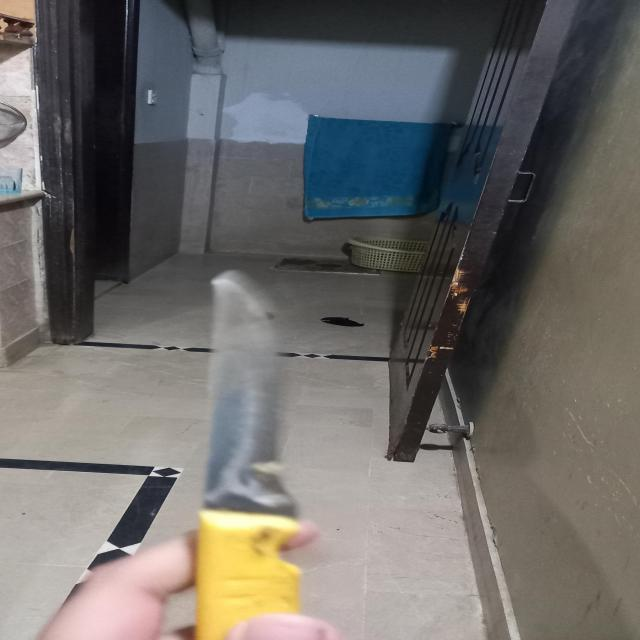weapon: (184, 276, 302, 637)
